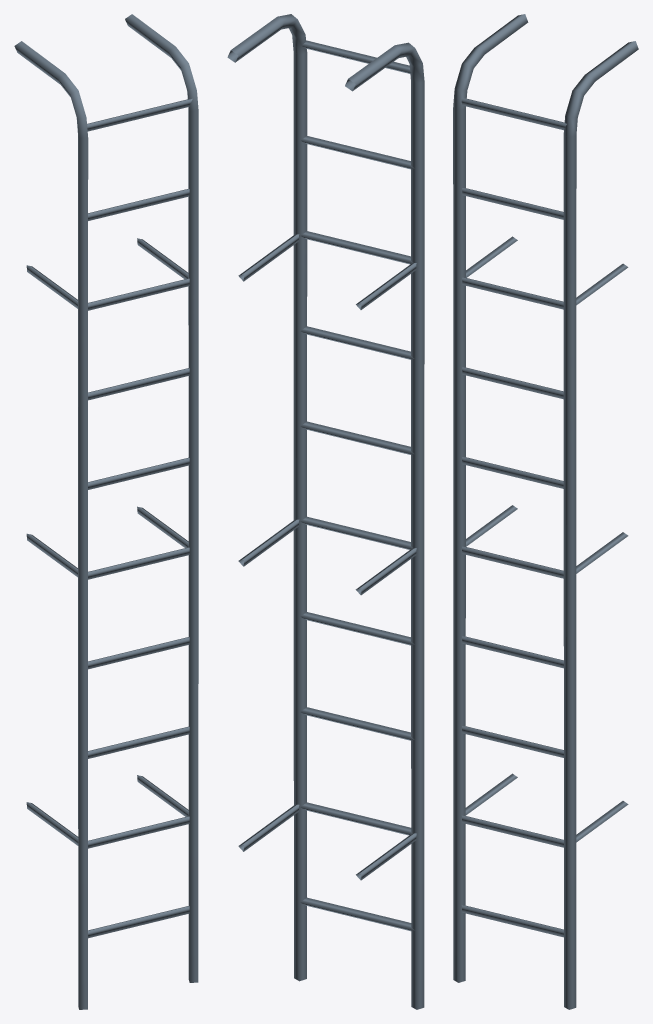
File: Ladder1_LOD1.fbx
3 views of the same model, side by side, from view 1: azimuth 30°, elevation 25°; view 2: azimuth 150°, elevation 25°; view 3: azimuth 330°, elevation 25° (orthographic). The views are drawn at different scales.
Visible parts, largest first — view 1: polySurface185; view 2: polySurface185; view 3: polySurface185.
Part boxes in pixels (bbox=[...]): polySurface185: bbox=[14, 14, 198, 1009]; polySurface185: bbox=[227, 14, 424, 1009]; polySurface185: bbox=[453, 14, 638, 1009].
Bounding box in the file's own units: 55.21 × 402 × 52.59.
